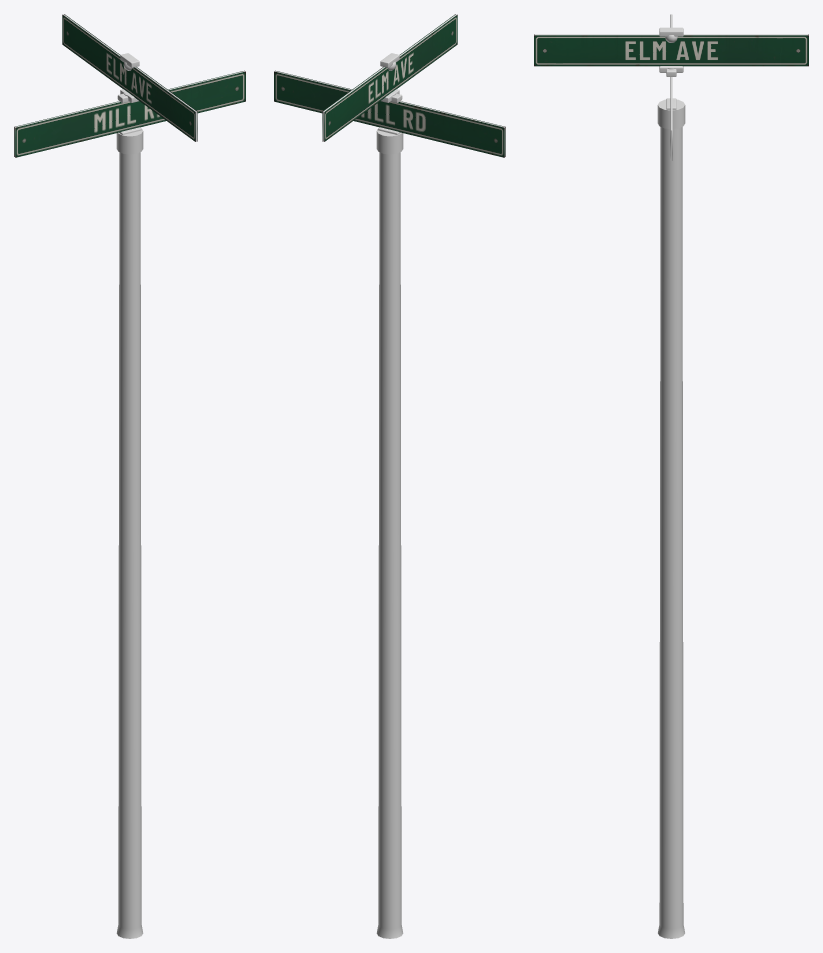
Rendered from SM_Sign_Street_Mill_Elm.fbx.
The picture shows the model from 3 angles, left to right: view 1: azimuth 30°, elevation 25°; view 2: azimuth 150°, elevation 25°; view 3: azimuth 270°, elevation 25°; orthographic projection. The views are drawn at different scales.
Visible parts, largest first — view 1: SM_Sign_Street_Mill_Elm_1; view 2: SM_Sign_Street_Mill_Elm_1; view 3: SM_Sign_Street_Mill_Elm_1.
Part boxes in pixels (box(x1,y1,x2,y2)): SM_Sign_Street_Mill_Elm_1: box(14, 14, 245, 938); SM_Sign_Street_Mill_Elm_1: box(274, 14, 505, 938); SM_Sign_Street_Mill_Elm_1: box(534, 14, 808, 938).
Bounding box in the file's own units: 80 × 290 × 80.
